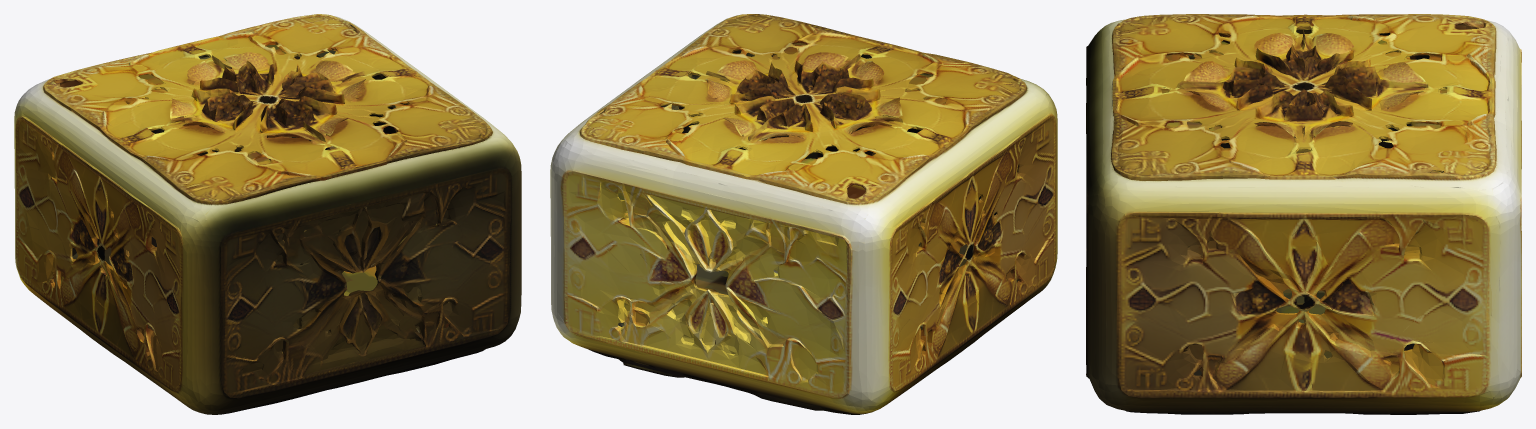
The model's file is silk-protein-shampoo-bar-art-deco.jpeg.glb.
3 renders of one model, left to right at view 1: azimuth 30°, elevation 25°; view 2: azimuth 150°, elevation 25°; view 3: azimuth 270°, elevation 25°, orthographic. The views are drawn at different scales.
Parts seen in each view (by area): view 1: world; view 2: world; view 3: world.
Part boxes in pixels (<box>): world: <box>14,14,521,414</box>; world: <box>550,14,1057,414</box>; world: <box>1086,14,1521,414</box>.
Size of the model in its own units: 1 by 0.7129 by 1.
1 material, 1 textured.
